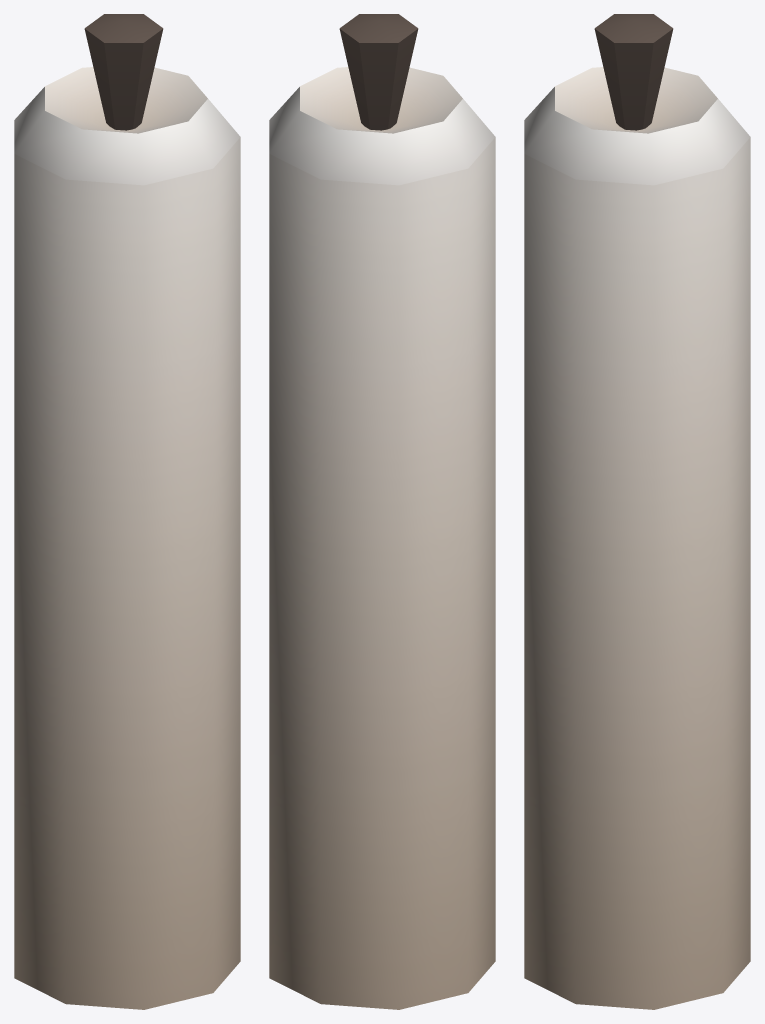
Rendered from candle_thin.gltf.
The picture shows the model from 3 angles, left to right: view 1: azimuth 30°, elevation 25°; view 2: azimuth 150°, elevation 25°; view 3: azimuth 270°, elevation 25°; orthographic projection.
Visible parts, largest first — view 1: candle_thin; view 2: candle_thin; view 3: candle_thin.
Boxes of the visible parts, x1,y1,x2,y2 form: candle_thin: [14, 14, 240, 1009]; candle_thin: [269, 14, 495, 1009]; candle_thin: [524, 14, 750, 1009].
Size of the model in its own units: 0.1932 by 0.873 by 0.1903.
Materials: 1 (1 with a texture image).
